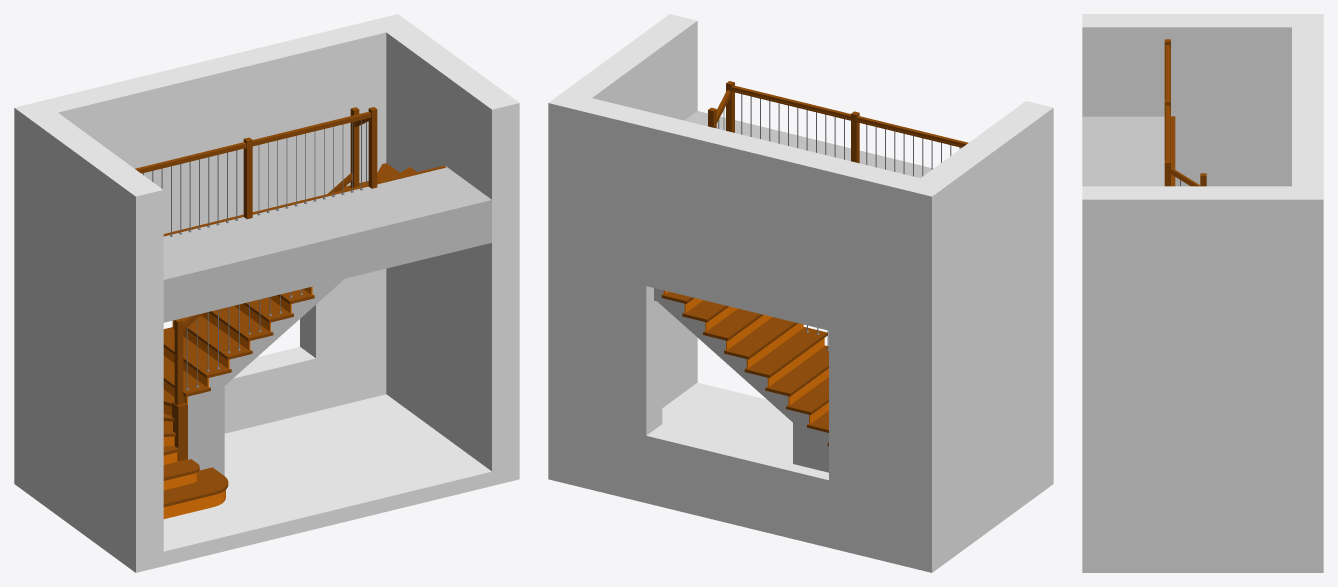
Rendered from 3D Сборка 2.obj.
The picture shows the model from 3 angles, left to right: view 1: azimuth 30°, elevation 25°; view 2: azimuth 150°, elevation 25°; view 3: azimuth 270°, elevation 25°; orthographic projection.
Bounding box in the file's own units: 5.55 × 5.2 × 3.05.
